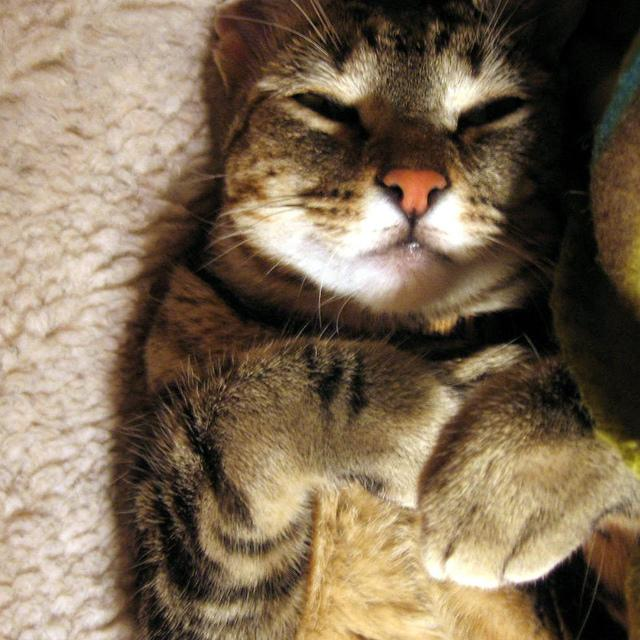animals: (229, 0, 552, 217)
